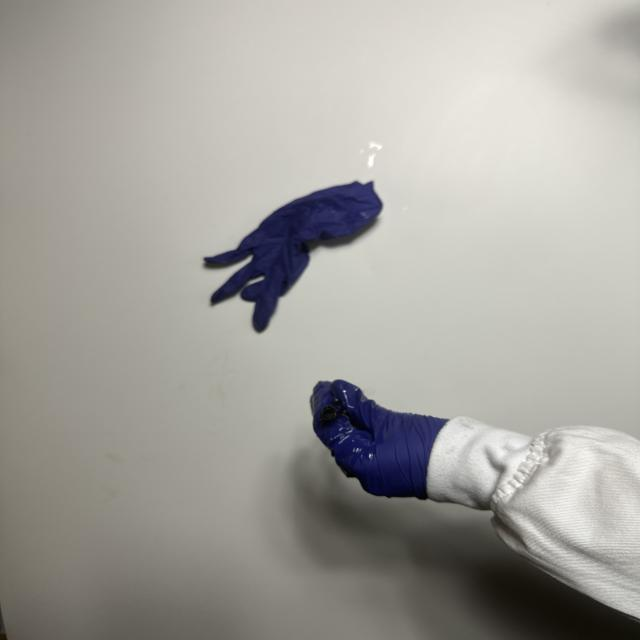gloves_contaminated: (311, 380, 448, 499)
